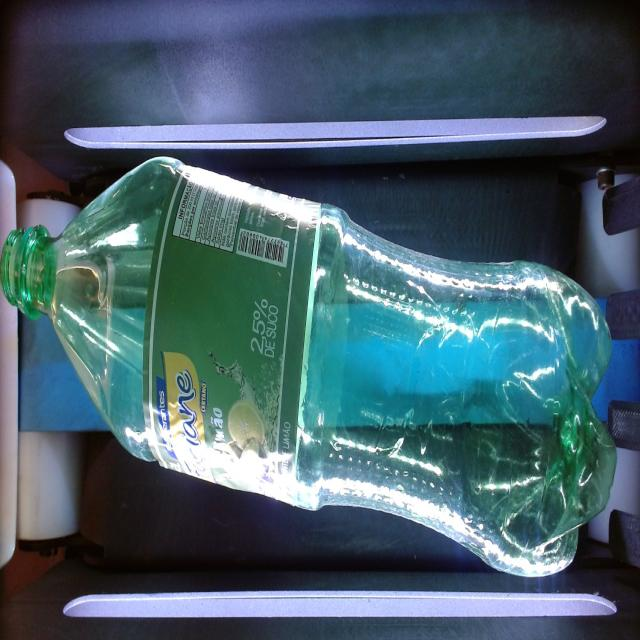bottle: (0, 158, 615, 576)
